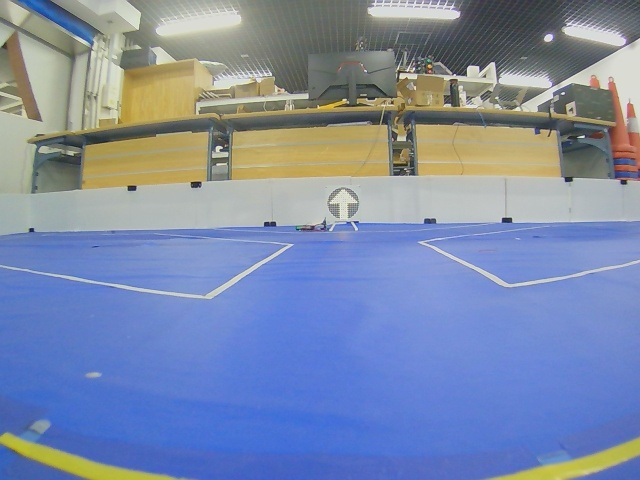straight_yellow: (327, 187, 359, 220)
